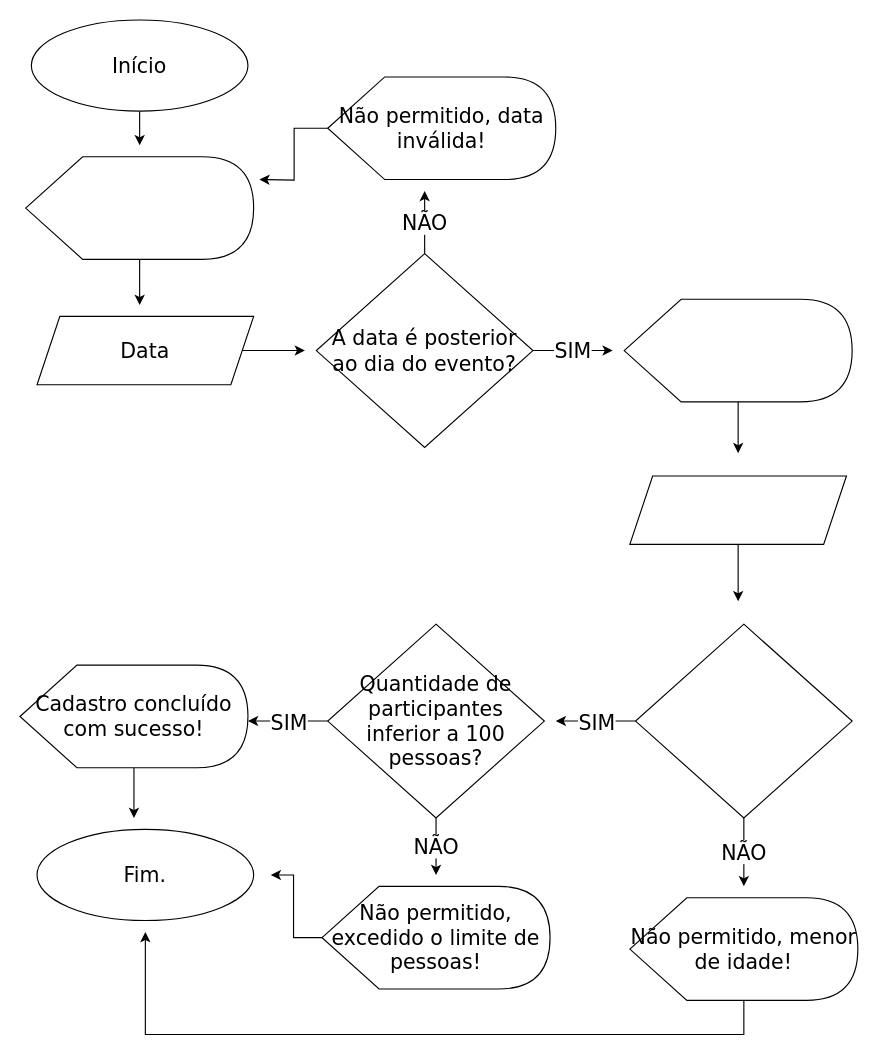
This 878x1064 diagram has some shape labels left out. The box of each missing label's shape, as (x1, y1, x2, y2) in pixels:
18 anos ou mais.: (634, 623, 852, 818)
Data nascimento.: (629, 475, 846, 544)
Digite a data do evento.: (25, 156, 254, 259)
Digite sua data de nascimento.: (623, 298, 852, 402)
